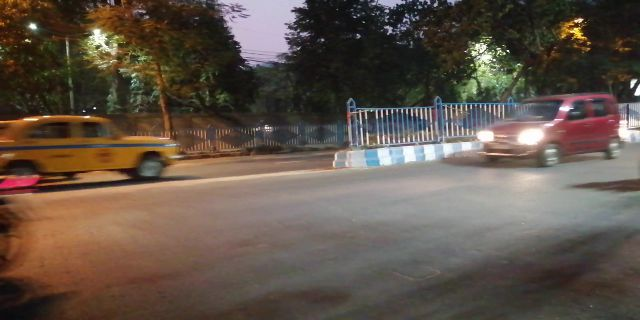Car: (9, 117, 178, 180), (479, 96, 622, 164)
